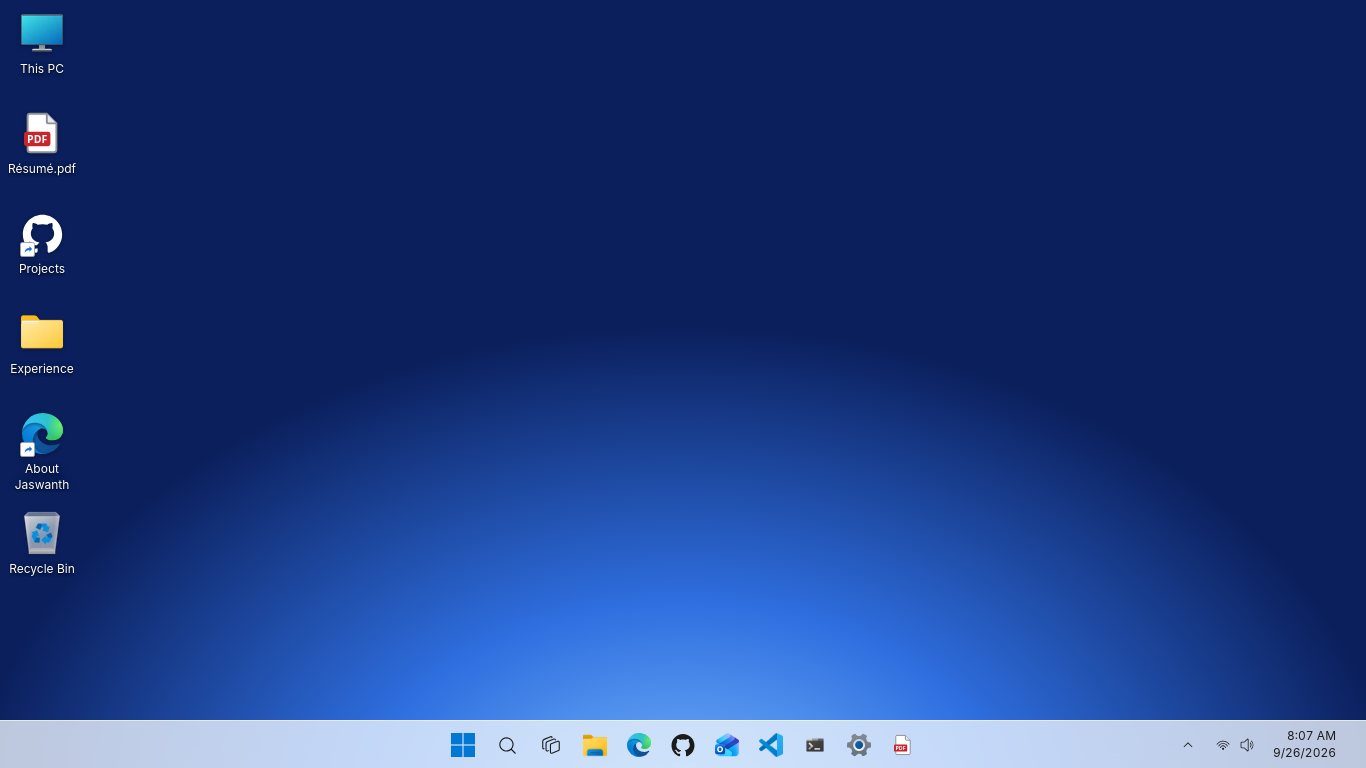
Scenario: WIN-TASK-01 · WIN-TASK-08 the taskbar › WIN-TASK-05 the tray: Quick Settings and the Notification Center (with the calendar grid) toggle
What coordinates should you click on to do the following:
click the button named "Quick Settings"
I would click on:
 (1235, 744)
Its box is [1207,724,1263,764].
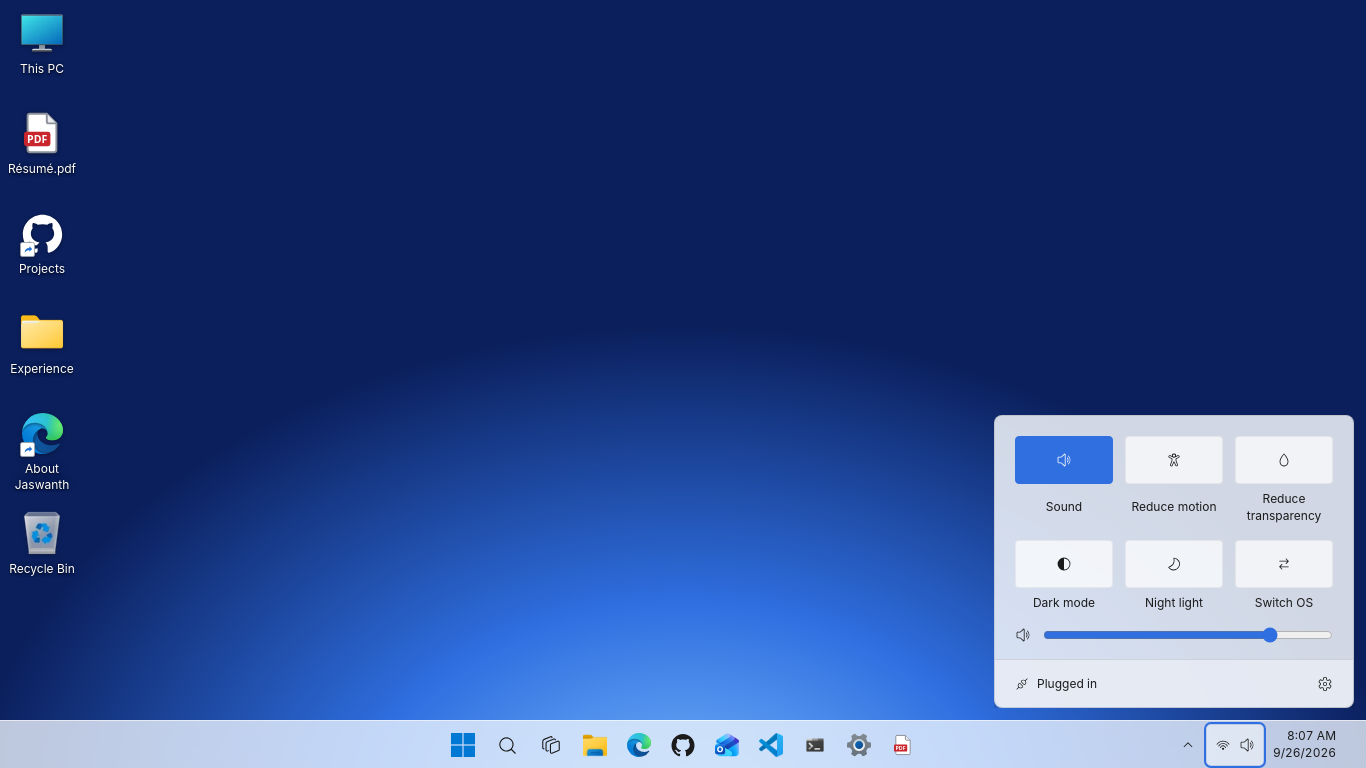
Now the slider named "Volume" is shown, box [1043,627,1333,643]
What coordinates should you click on to do the following:
click the button with aria-label "Notification Center"
I would click on:
 (1304, 744)
Its box is [1265,724,1344,764].
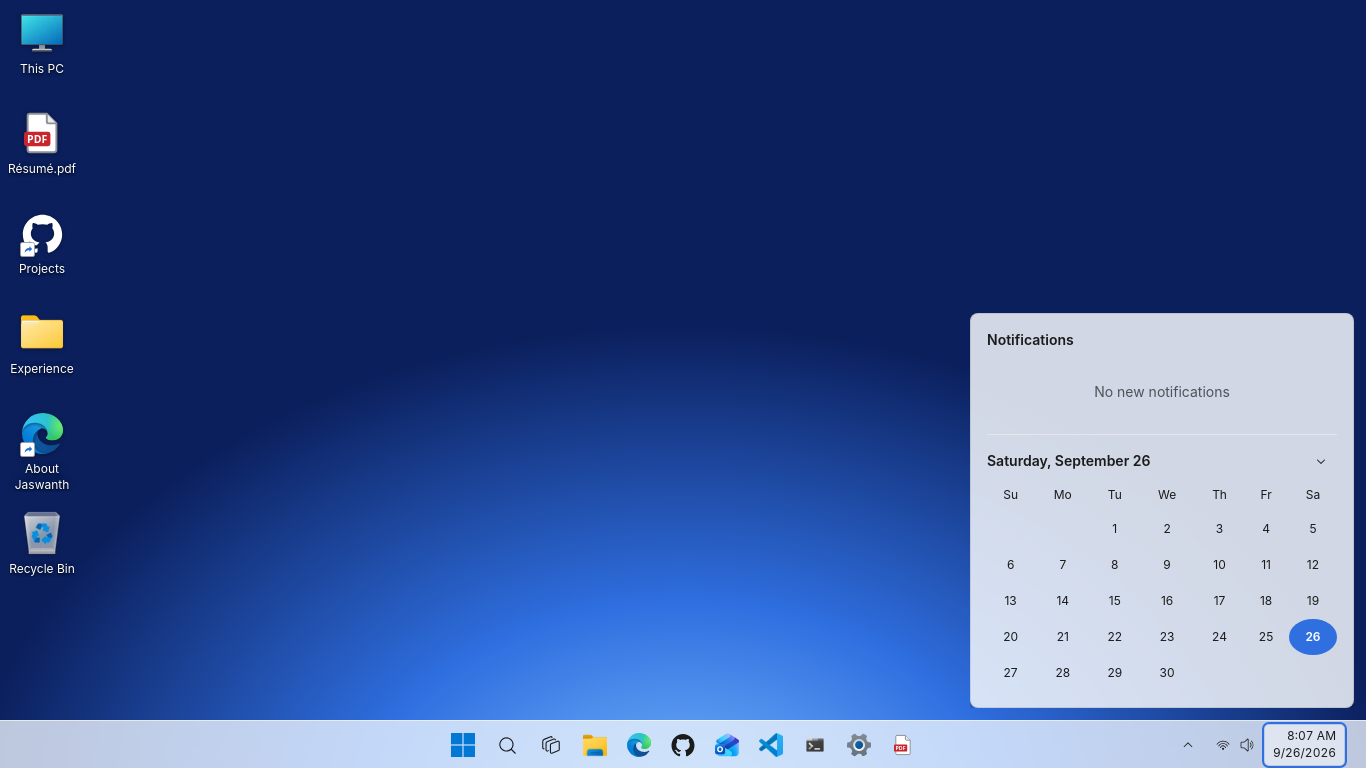
Now the table is shown, box [987,479,1337,691]
